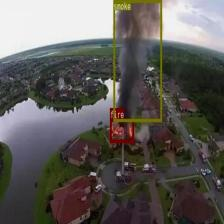fire: (110, 118, 134, 142)
smoke: (113, 0, 161, 121)
